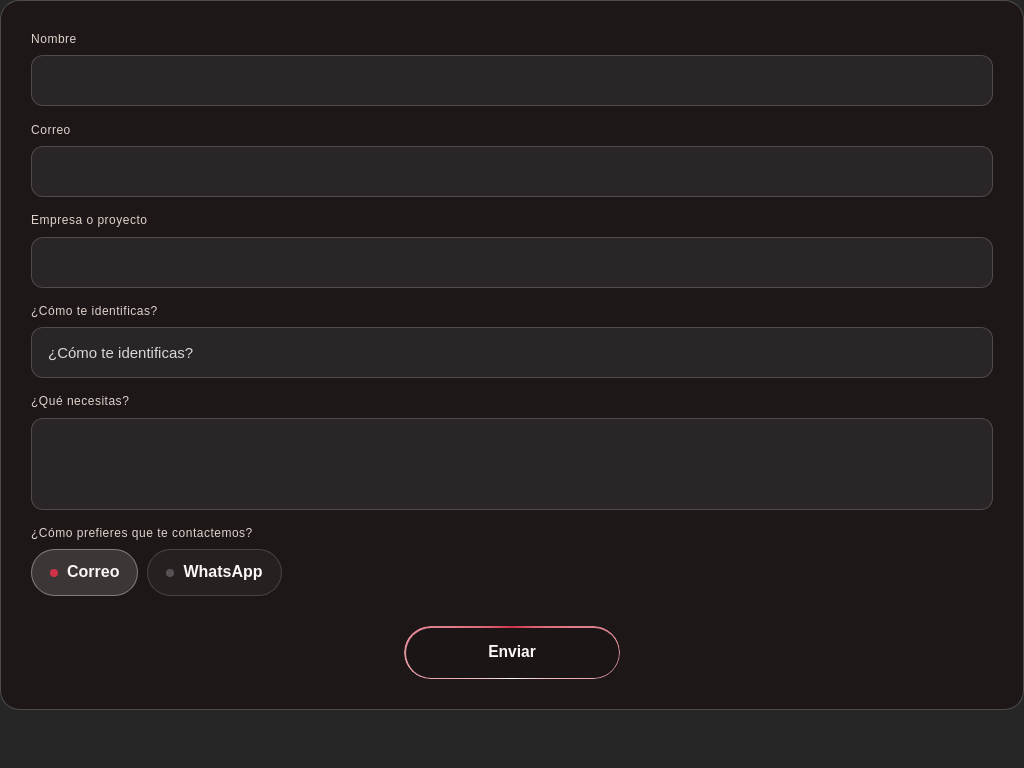
Test: ContactForm · submitting › should disable the button, show the sending label and lock the fields while the request is in flight
Type "Ana" into the field with id "name". click: x=512, y=81
box: 31,55 -> 993,106
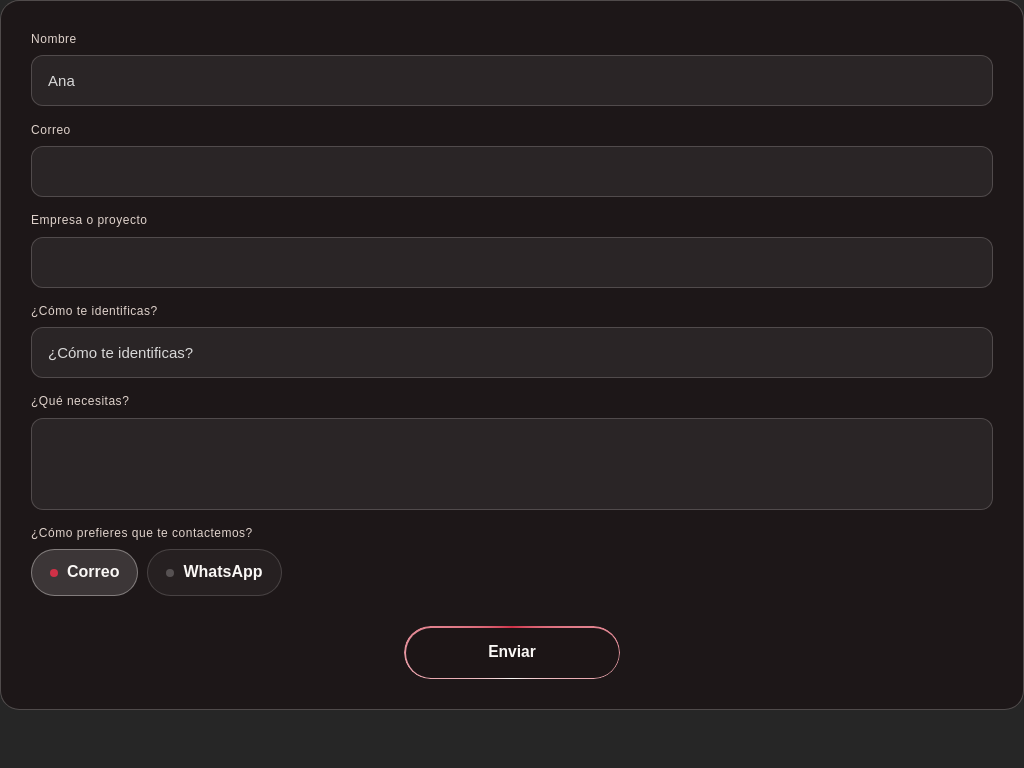
Type "ana@muush.dev" into the field with id "email". click: x=512, y=172
box: 31,146 -> 993,197
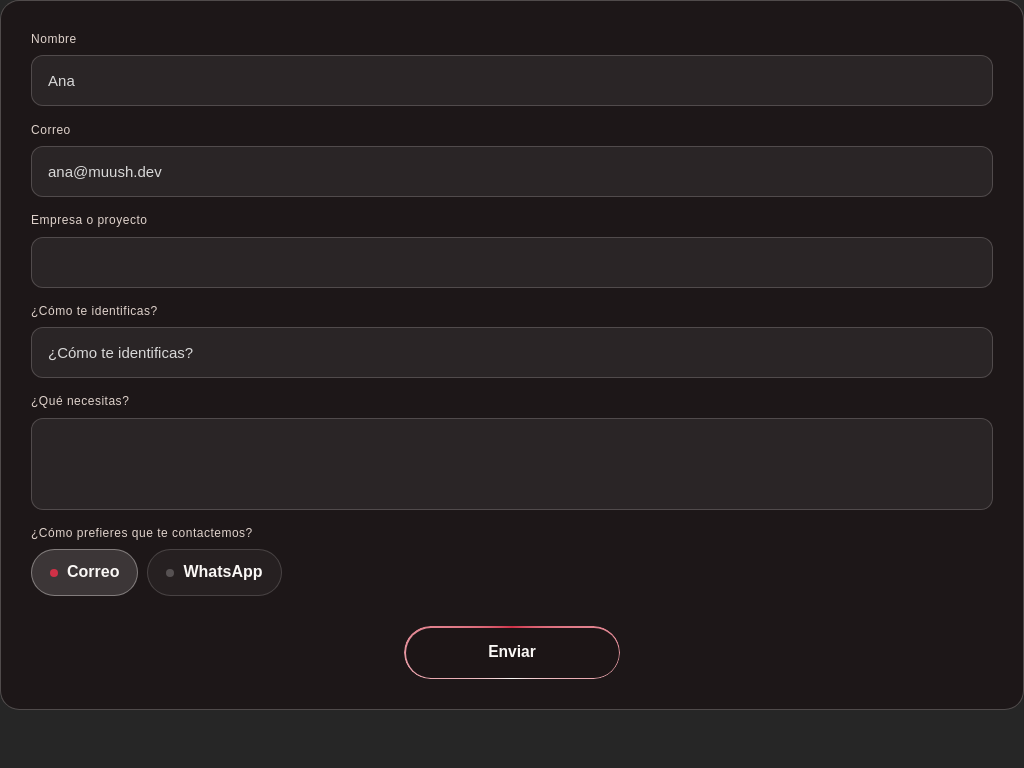
Select "Empresa" in the dropdown with id "identity". click: x=512, y=353
box: 31,327 -> 993,378
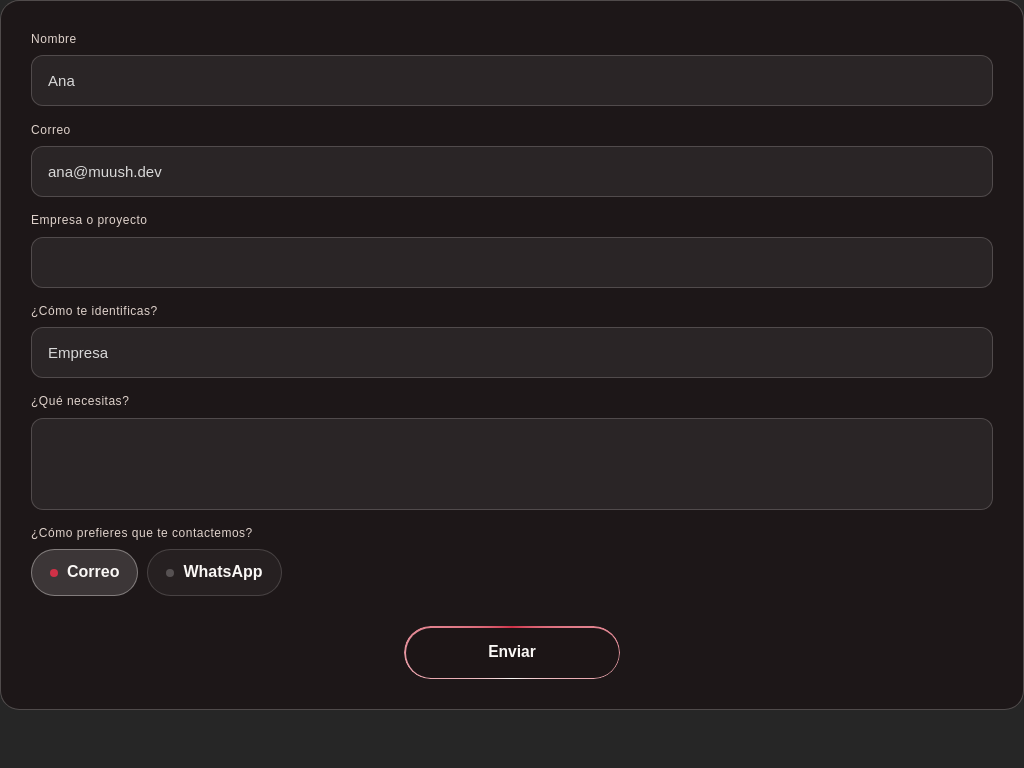
Type "Necesitamos un rediseño completo del sitio." into the text box with id "need". click: x=512, y=464
box: 31,418 -> 993,510
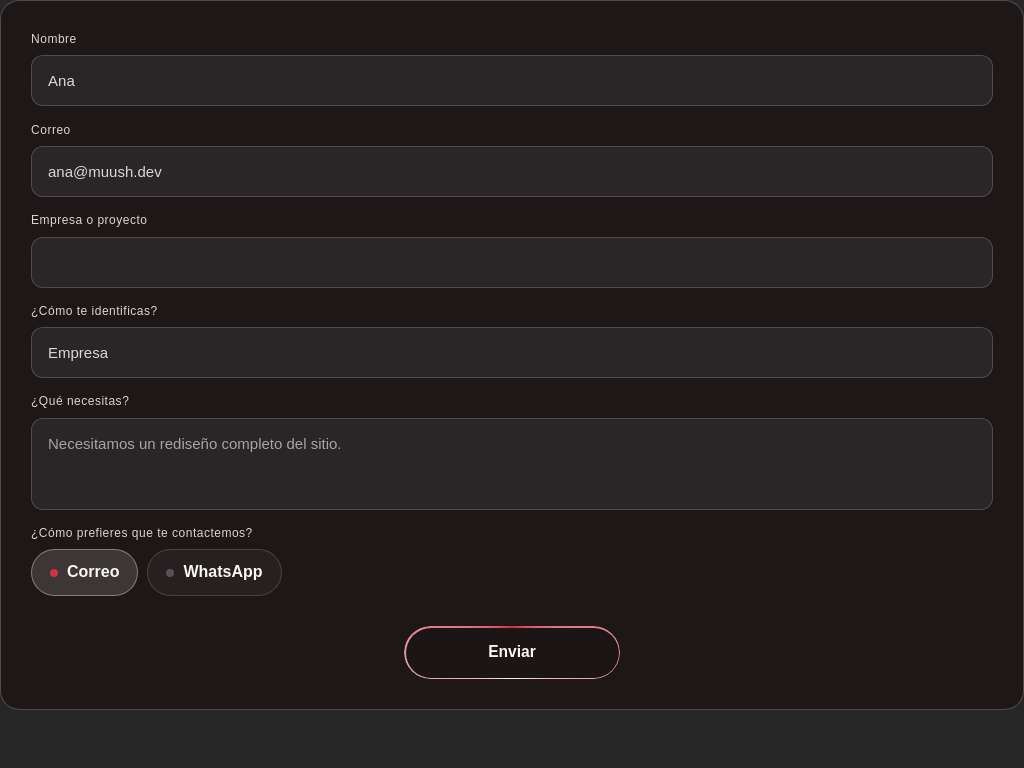
Submit the form
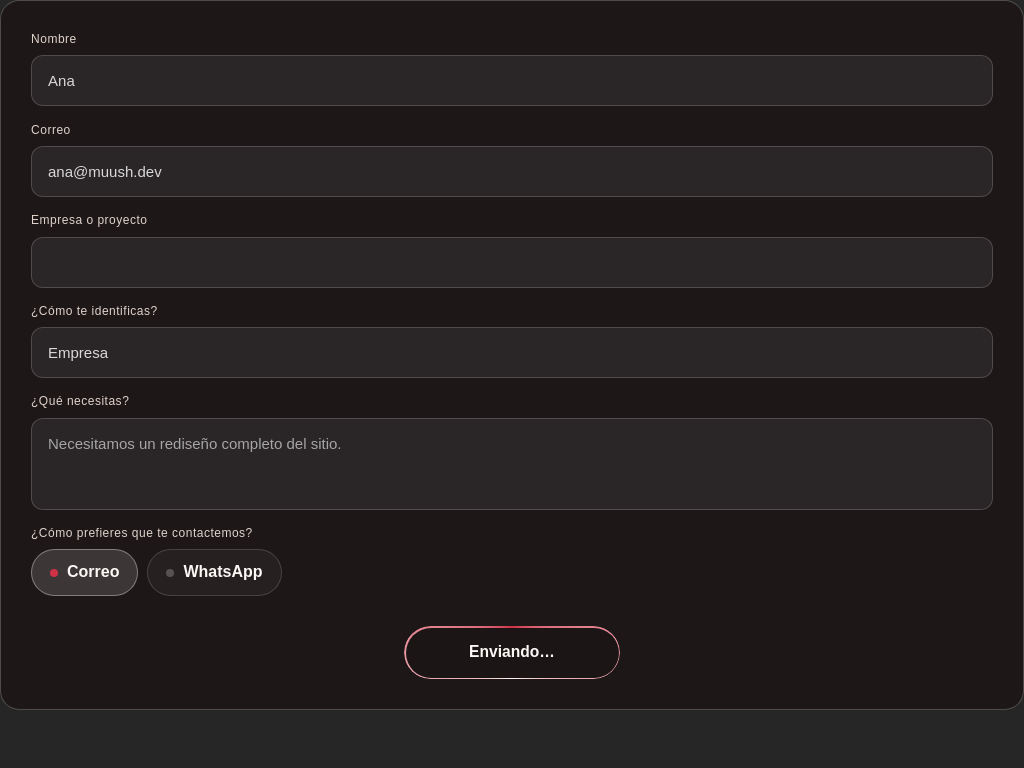
Expected: the submit button is disabled, 404,626 -> 620,679
Expected: the submit button reads "Enviando…", 404,626 -> 620,679
